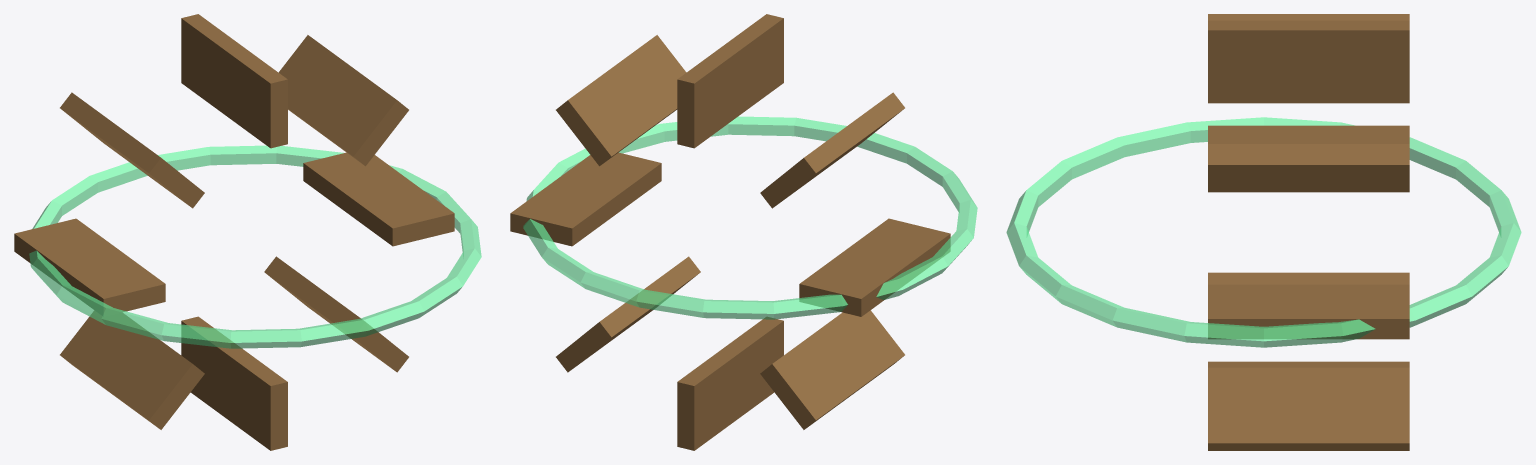
Rendered from vfx_bark_armor_regrowth.glb.
The picture shows the model from 3 angles, left to right: view 1: azimuth 30°, elevation 25°; view 2: azimuth 150°, elevation 25°; view 3: azimuth 270°, elevation 25°; orthographic projection. The views are drawn at different scales.
Visible parts, largest first — view 1: ring, plate_5, plate_1, plate_2, plate_4, plate_6, plate_0, plate_3, plate_7; view 2: ring, plate_5, plate_1, plate_2, plate_4, plate_6, plate_0, plate_3, plate_7; view 3: ring, plate_2, plate_7, plate_0, plate_1, plate_4, plate_5, plate_3, plate_6.
Part boxes in pixels (x1,y1,x2,y2): ring: [29, 145, 481, 348]; plate_5: [60, 311, 204, 429]; plate_1: [278, 35, 408, 166]; plate_2: [181, 14, 287, 148]; plate_4: [14, 218, 165, 316]; plate_6: [181, 316, 287, 450]; plate_0: [303, 152, 454, 246]; plate_3: [60, 92, 204, 208]; plate_7: [264, 256, 408, 372]; ring: [523, 116, 977, 319]; plate_5: [760, 310, 904, 429]; plate_1: [556, 35, 686, 166]; plate_2: [677, 14, 783, 148]; plate_4: [799, 218, 950, 316]; plate_6: [677, 317, 783, 450]; plate_0: [510, 152, 661, 246]; plate_3: [760, 92, 904, 208]; plate_7: [556, 256, 700, 372]; ring: [1006, 117, 1521, 347]; plate_2: [1208, 20, 1409, 103]; plate_7: [1208, 367, 1409, 450]; plate_0: [1208, 284, 1409, 339]; plate_1: [1208, 144, 1409, 192]; plate_4: [1208, 125, 1409, 143]; plate_5: [1208, 272, 1409, 284]; plate_3: [1208, 14, 1409, 20]; plate_6: [1208, 361, 1409, 367].
Bounding box in the file's own units: 1.15 × 1.02 × 1.15.
